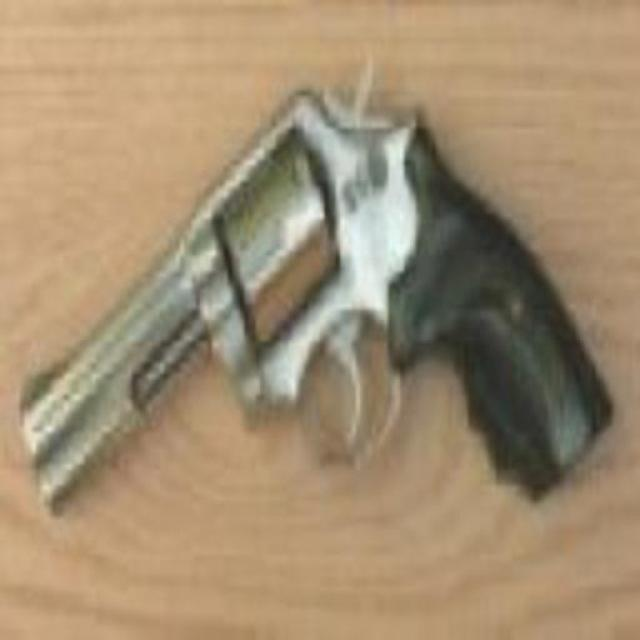pistol: (27, 69, 607, 501)
